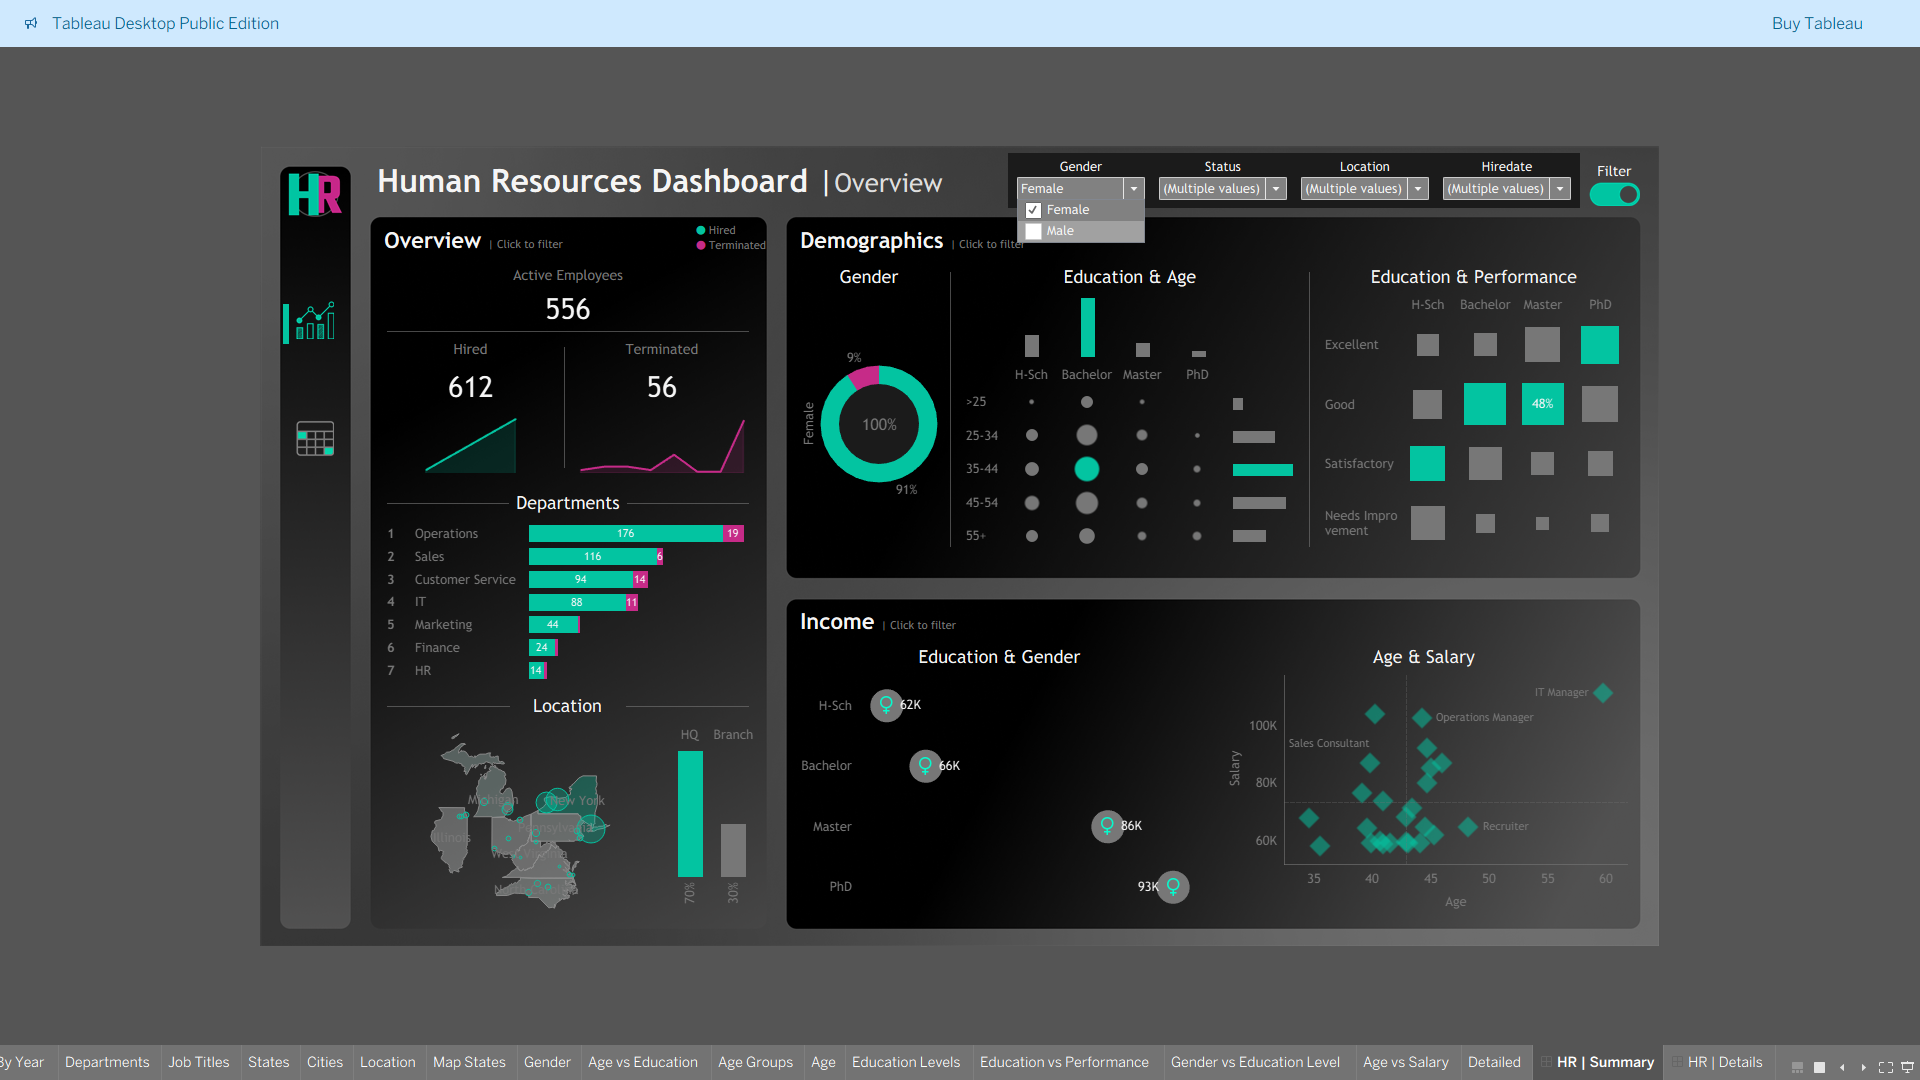

Layout of this report page (visuals, bound fields, positions):
{"tool":"tableau","page":{"name":"HR | Summary","canvas":[1400,800],"ordinal":0},"visuals":[{"type":"image","param":"Image/background dashbaord summary.png","box":[0,0,1400,800]},{"type":"blank","box":[90,0,1309,240]},{"type":"text","box":[110,0,687,70]},{"type":"blank","box":[797,0,583,70]},{"type":"filter","title":"Gender vs Education Level","param":"[federated.1uy6vyf0tya8w3119f4041qdymfc].[none:Gender:nk]","box":[750,9,142,51]},{"type":"filter","title":"Gender vs Education Level","param":"[federated.1uy6vyf0tya8w3119f4041qdymfc].[none:Calculation_2981664453132697602:n","box":[892,9,142,51]},{"type":"filter","title":"Gender vs Education Level","param":"[federated.1uy6vyf0tya8w3119f4041qdymfc].[none:Calculation_3363625995846344715:n","box":[1034,9,142,51]},{"type":"filter","title":"Gender vs Education Level","param":"[federated.1uy6vyf0tya8w3119f4041qdymfc].[yr:Hiredate:ok]","box":[1176,9,142,51]},{"type":"text","box":[1319,10,71,30]},{"type":"image","param":"Image/Logo.png","box":[20,20,70,55]},{"type":"dashboard-object","box":[1329,25,51,48]},{"type":"text","box":[117,77,382,34]},{"type":"text","box":[433,77,85,32]},{"type":"text","box":[533,77,840,34]},{"type":"blank","box":[30,85,50,70]},{"type":"text","box":[117,111,382,31]},{"type":"text","box":[533,116,152,29]},{"type":"blank","box":[690,116,1,295]},{"type":"text","box":[696,116,348,29]},{"type":"blank","box":[1049,116,1,295]},{"type":"text","box":[1055,116,318,29]},{"type":"worksheet","title":"BAN Active","mark":"Text","box":[117,142,382,43]},{"type":"worksheet","title":"Gender","mark":"Pie","rows":["Gender"],"cols":["Calculation_3363625995853570061","Calculation_3363625995853570061"],"box":[533,145,152,266]},{"type":"worksheet","title":"Education Levels","mark":"Bar","rows":["Calculation_3363625995831468034"],"cols":["Education Level"],"box":[696,145,348,70]},{"type":"worksheet","title":"Education vs Performance","mark":"Square","rows":["Performance Rating"],"cols":["Education Level"],"box":[1055,145,318,266]},{"type":"dashboard-object","box":[30,155,50,38]},{"type":"blank","box":[23,158,6,40]},{"type":"blank","box":[117,185,382,1]},{"type":"text","box":[117,191,187,25]},{"type":"blank","box":[304,191,1,141]},{"type":"text","box":[305,191,194,25]},{"type":"blank","box":[30,193,50,10]},{"type":"blank","box":[30,203,50,70]},{"type":"worksheet","title":"Age vs Education","mark":"Circle","rows":["Calculation_3363625995862552598"],"cols":["Education Level"],"box":[696,215,273,196]},{"type":"worksheet","title":"Age Groups","mark":"Bar","rows":["Calculation_3363625995862552598"],"cols":["Calculation_3363625995831468034"],"box":[969,215,71,196]},{"type":"worksheet","title":"BAN Hired","mark":"Text","box":[117,216,187,49]},{"type":"worksheet","title":"BAN Terminated","mark":"Text","box":[305,216,194,49]},{"type":"text","box":[90,240,1309,320]},{"type":"worksheet","title":"Hired By Year","mark":"Line","rows":["Calculation_3363625995831468034","Calculation_3363625995831468034"],"cols":["Hiredate"],"box":[117,265,187,67]},{"type":"worksheet","title":"Terminated By Year","mark":"Line","rows":["Calculation_3363625995832086533","Calculation_3363625995832086533"],"cols":["Termdate"],"box":[305,265,194,67]},{"type":"blank","box":[127,342,122,30]},{"type":"text","box":[249,342,118,30]},{"type":"blank","box":[367,342,122,30]},{"type":"worksheet","title":"Departments","mark":"Bar","rows":["Calculation_3363625995844042762","Department"],"cols":["Calculation_3363625995831468034"],"box":[117,372,382,168]},{"type":"text","box":[533,459,840,32]},{"type":"text","box":[533,496,412.5,29]},{"type":"blank","box":[950.5,496,1,279]},{"type":"text","box":[956.5,496,416.5,29]},{"type":"worksheet","title":"Gender vs Education Level","mark":"Square","rows":["Education Level"],"cols":["Salary","Salary"],"box":[533,525,412.5,250]},{"type":"worksheet","title":"Age vs Salary","mark":"Shape","rows":["Salary"],"cols":["Calculation_3363625995860541454"],"box":[956.5,525,416.5,250]},{"type":"blank","box":[127,545,123.3,30]},{"type":"text","box":[250.3,545,115.3,30]},{"type":"blank","box":[365.6,545,123.3,30]},{"type":"blank","box":[90,560,1309,240]},{"type":"worksheet","title":"Map States","mark":"Automatic","box":[117,575,287,200]},{"type":"worksheet","title":"Location","mark":"Bar","rows":["Calculation_3363625995831468034"],"cols":["Calculation_3363625995846344715","Calculation1"],"box":[404,575,95,200]}]}

Visuals, with their boxes on the page's 1400x800 design canvas (x1, y1, x2, y2). These are canvas units, not pixel positions in the 1920x1080 screenshot, which may show the page scaled, cropped or inside an application window:
image: 0:0:1400:800
blank: 90:0:1399:240
text: 110:0:797:70
blank: 797:0:1380:70
"Gender vs Education Level" filter: 750:9:892:60
"Gender vs Education Level" filter: 892:9:1034:60
"Gender vs Education Level" filter: 1034:9:1176:60
"Gender vs Education Level" filter: 1176:9:1318:60
text: 1319:10:1390:40
image: 20:20:90:75
dashboard-object: 1329:25:1380:73
text: 117:77:499:111
text: 433:77:518:109
text: 533:77:1373:111
blank: 30:85:80:155
text: 117:111:499:142
text: 533:116:685:145
blank: 690:116:691:411
text: 696:116:1044:145
blank: 1049:116:1050:411
text: 1055:116:1373:145
"BAN Active" worksheet (Text marks): 117:142:499:185
"Gender" worksheet (Pie marks): 533:145:685:411
"Education Levels" worksheet (Bar marks): 696:145:1044:215
"Education vs Performance" worksheet (Square marks): 1055:145:1373:411
dashboard-object: 30:155:80:193
blank: 23:158:29:198
blank: 117:185:499:186
text: 117:191:304:216
blank: 304:191:305:332
text: 305:191:499:216
blank: 30:193:80:203
blank: 30:203:80:273
"Age vs Education" worksheet (Circle marks): 696:215:969:411
"Age Groups" worksheet (Bar marks): 969:215:1040:411
"BAN Hired" worksheet (Text marks): 117:216:304:265
"BAN Terminated" worksheet (Text marks): 305:216:499:265
text: 90:240:1399:560
"Hired By Year" worksheet (Line marks): 117:265:304:332
"Terminated By Year" worksheet (Line marks): 305:265:499:332
blank: 127:342:249:372
text: 249:342:367:372
blank: 367:342:489:372
"Departments" worksheet (Bar marks): 117:372:499:540
text: 533:459:1373:491
text: 533:496:946:525
blank: 950:496:952:775
text: 956:496:1373:525
"Gender vs Education Level" worksheet (Square marks): 533:525:946:775
"Age vs Salary" worksheet (Shape marks): 956:525:1373:775
blank: 127:545:250:575
text: 250:545:366:575
blank: 366:545:489:575
blank: 90:560:1399:800
"Map States" worksheet: 117:575:404:775
"Location" worksheet (Bar marks): 404:575:499:775
